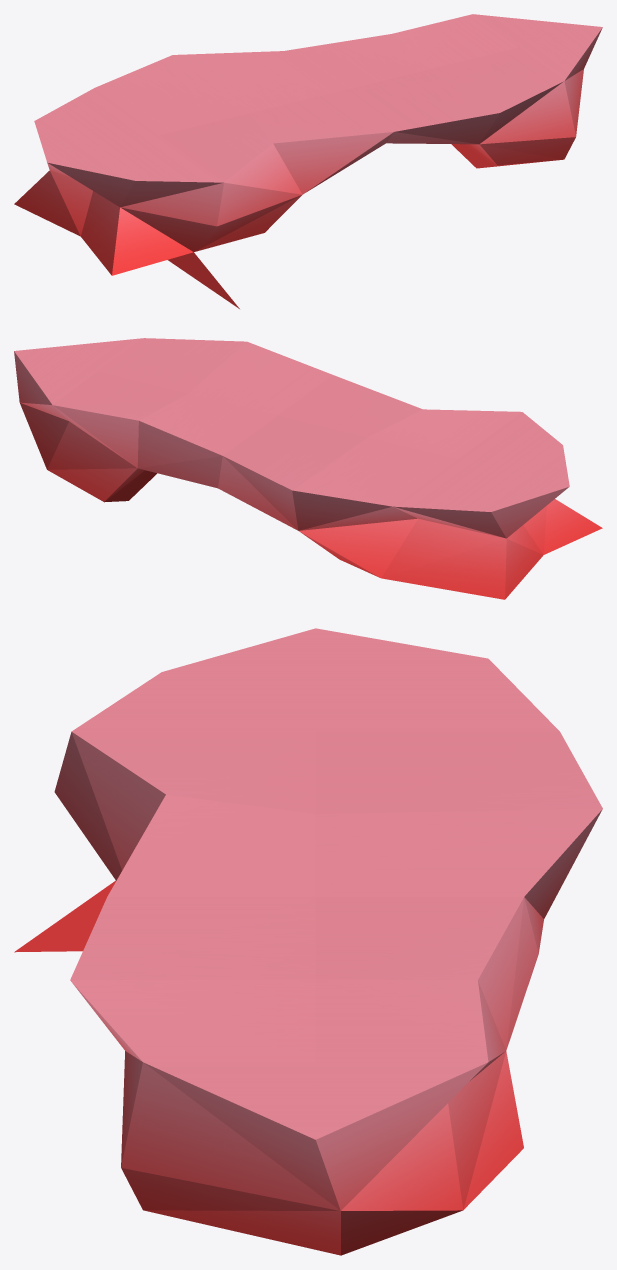
The model's file is MOD_PlatformV3_laag.fbx.
The picture shows the model from 3 angles, top to bottom: view 1: azimuth 30°, elevation 25°; view 2: azimuth 150°, elevation 25°; view 3: azimuth 270°, elevation 25°; orthographic projection. The views are drawn at different scales.
Visible parts, largest first — view 1: MOD_PlatformsFloating_Laag; view 2: MOD_PlatformsFloating_Laag; view 3: MOD_PlatformsFloating_Laag.
Part boxes in pixels (x1,y1,x2,y2): MOD_PlatformsFloating_Laag: (14,14,602,308); MOD_PlatformsFloating_Laag: (14,338,602,599); MOD_PlatformsFloating_Laag: (14,628,602,1255).
Bounding box in the file's own units: 4.96 × 1.01 × 2.41.
Materials: 1 (1 with a texture image).
